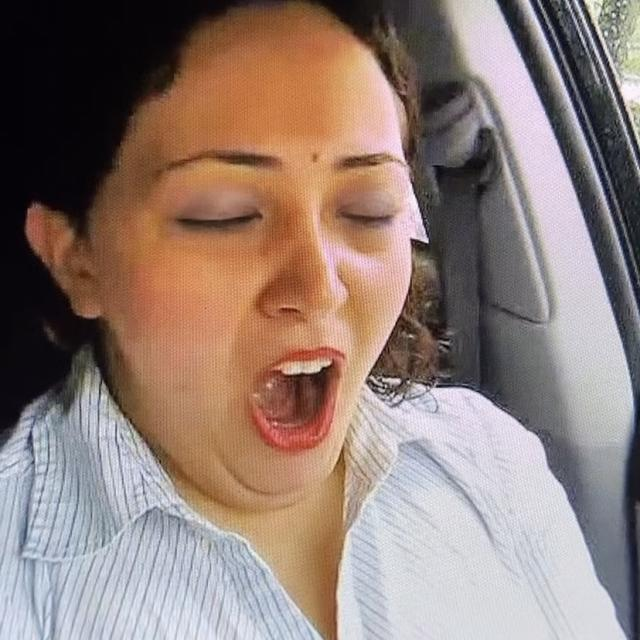open-mouth: (248, 340, 346, 456)
